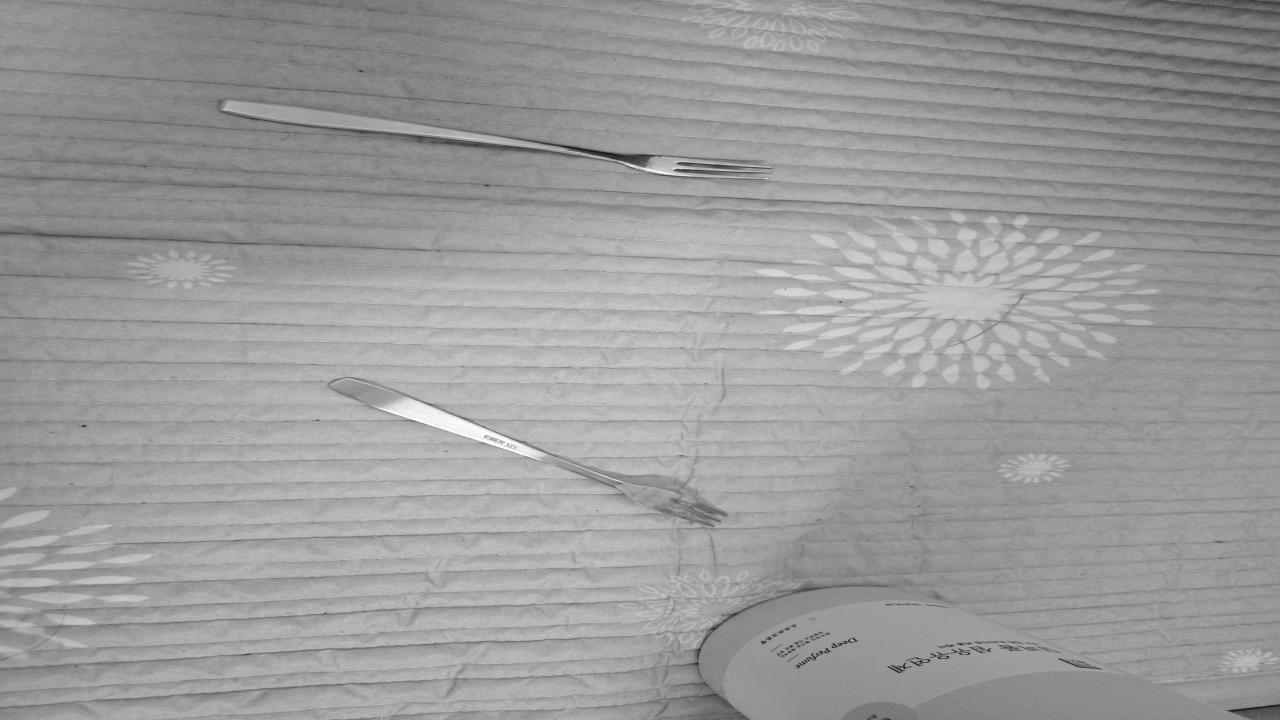fork: (340, 377, 724, 527), (220, 100, 765, 184)
